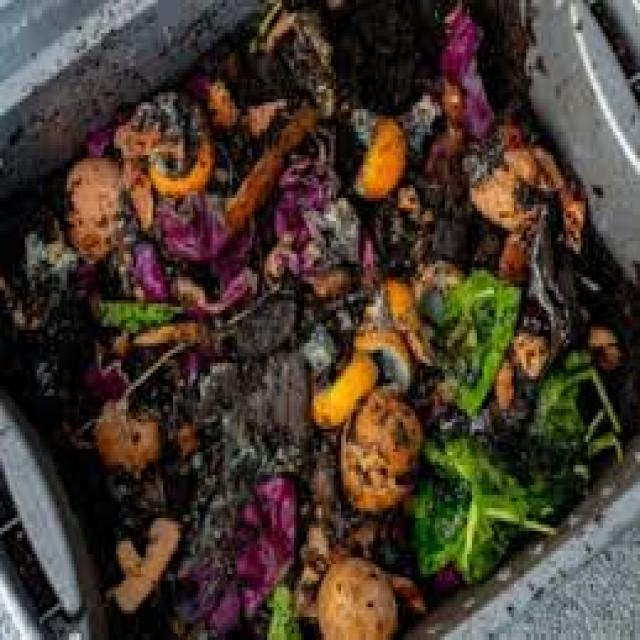organic waste: (0, 0, 638, 637), (425, 432, 539, 584), (225, 102, 326, 221), (202, 359, 306, 468), (225, 465, 299, 614), (336, 0, 437, 109), (524, 360, 590, 518), (440, 274, 519, 406), (336, 386, 418, 508), (252, 0, 346, 106), (60, 152, 154, 254), (522, 188, 574, 366), (156, 191, 250, 284), (8, 294, 82, 406), (299, 452, 348, 620), (437, 3, 497, 139), (277, 162, 358, 260), (109, 511, 183, 617), (358, 280, 428, 390), (314, 551, 398, 637), (148, 89, 215, 195), (459, 152, 548, 231), (15, 208, 91, 300), (173, 465, 237, 568), (398, 472, 464, 570), (205, 290, 294, 360), (163, 264, 257, 323), (366, 182, 430, 268), (348, 118, 411, 204), (309, 350, 380, 422), (116, 99, 156, 224), (574, 238, 638, 316), (101, 231, 173, 300), (94, 389, 158, 462), (173, 541, 225, 630), (121, 343, 198, 403), (418, 116, 470, 204), (86, 290, 178, 336), (499, 135, 564, 195), (294, 300, 336, 383), (541, 172, 586, 248), (583, 320, 633, 376), (408, 254, 464, 304), (79, 350, 136, 396), (422, 201, 474, 251), (464, 224, 512, 277), (203, 578, 247, 634), (101, 472, 163, 511), (175, 336, 220, 389), (348, 218, 383, 280), (203, 79, 242, 129), (264, 577, 296, 637), (240, 92, 286, 132), (388, 571, 423, 620), (168, 409, 198, 459), (82, 118, 116, 162), (260, 238, 296, 277), (494, 363, 519, 419), (512, 330, 546, 369), (425, 557, 460, 594), (178, 56, 212, 86)
